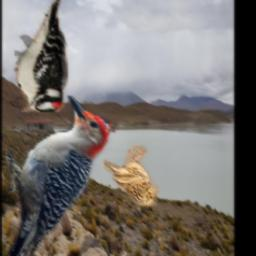Sparrow: (104, 146, 159, 208)
Woodpecker: (5, 97, 114, 256), (14, 0, 67, 112)
